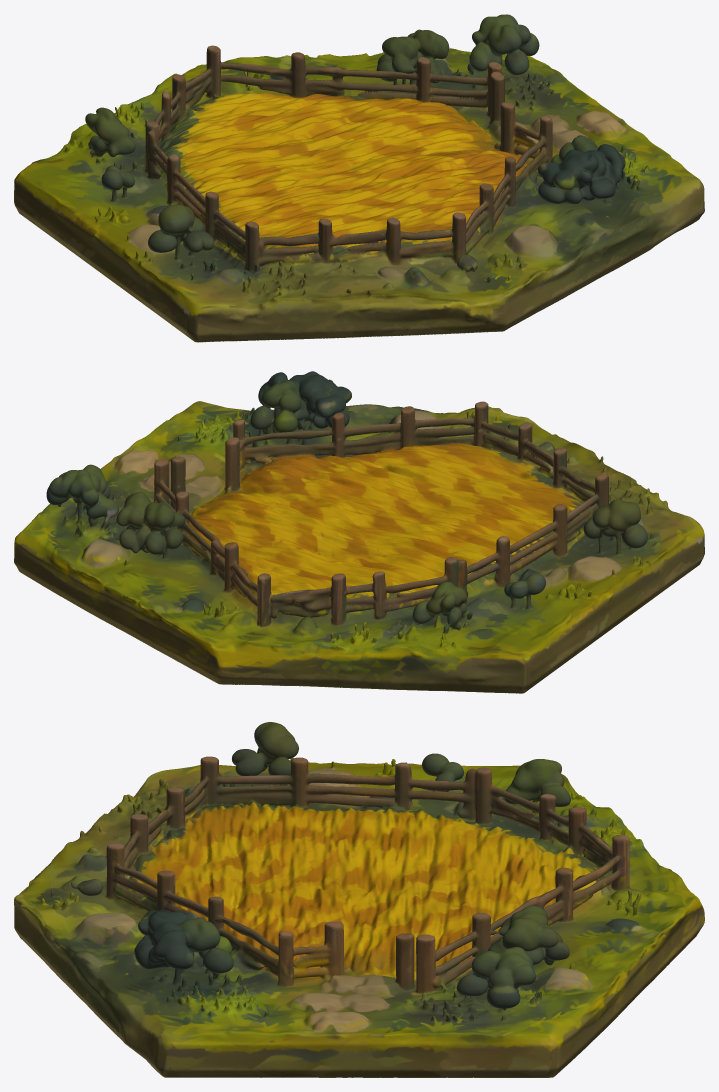
The model's file is field_grade_1.glb.
The picture shows the model from 3 angles, top to bottom: view 1: azimuth 30°, elevation 25°; view 2: azimuth 150°, elevation 25°; view 3: azimuth 270°, elevation 25°; orthographic projection. The views are drawn at different scales.
Parts seen in each view (by area): view 1: tripo_node_71b07245-72d1-4543-8f63-29905876b28e; view 2: tripo_node_71b07245-72d1-4543-8f63-29905876b28e; view 3: tripo_node_71b07245-72d1-4543-8f63-29905876b28e.
Boxes of the visible parts, left/top/right/bottom form: tripo_node_71b07245-72d1-4543-8f63-29905876b28e: left=14, top=14, right=704, bottom=342; tripo_node_71b07245-72d1-4543-8f63-29905876b28e: left=14, top=371, right=704, bottom=693; tripo_node_71b07245-72d1-4543-8f63-29905876b28e: left=14, top=722, right=704, bottom=1077.
Size of the model in its own units: 0.8029 by 0.1446 by 0.8547.
Materials: 1 (1 with a texture image).
